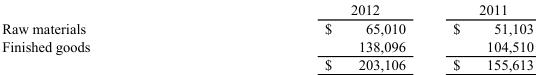table: (1, 1, 533, 72)
table column: (206, 1, 428, 72), (1, 1, 206, 72), (428, 1, 533, 72)
table column header: (1, 1, 533, 18)
table row: (1, 18, 533, 37), (1, 37, 533, 55), (1, 1, 533, 18), (1, 55, 533, 72)
